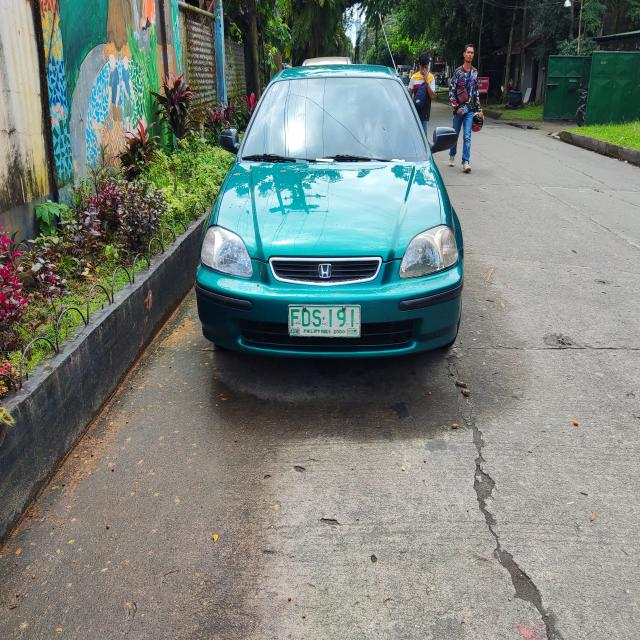plate: (288, 304, 362, 338)
